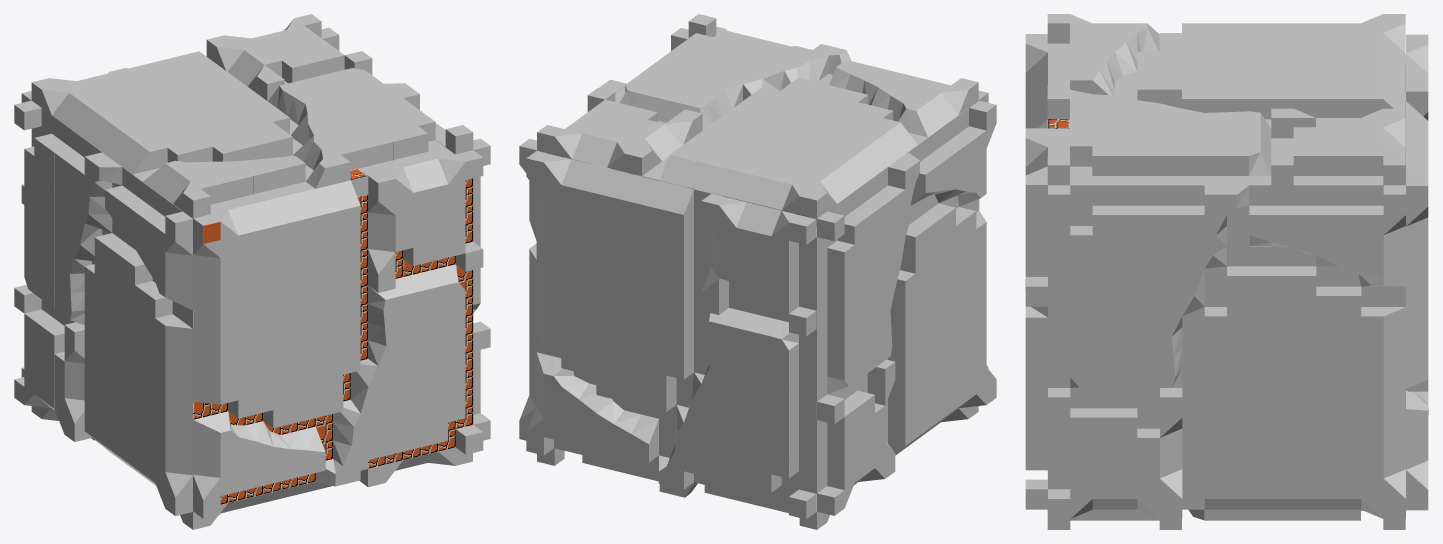
Rendered from groundBlock.obj.
3 views of the same model, side by side, from view 1: azimuth 30°, elevation 25°; view 2: azimuth 150°, elevation 25°; view 3: azimuth 270°, elevation 25° (orthographic). The views are drawn at different scales.
Visible parts, largest first — view 1: Cube.000_Cube.511, Cube.032_Cube.287, Cube.004_Cube.515, Cube.002_Cube.513, Cube.003_Cube.514; view 2: Cube.001_Cube.512, Cube.032_Cube.287, Cube.004_Cube.515, Cube.002_Cube.513, Cube.003_Cube.514; view 3: Cube.002_Cube.513, Cube.004_Cube.515, Cube.001_Cube.512, Cube.000_Cube.511, Cube.003_Cube.514.
Part boxes in pixels (bbox=[...]): Cube.000_Cube.511: bbox=[193, 150, 483, 518]; Cube.032_Cube.287: bbox=[14, 100, 193, 515]; Cube.004_Cube.515: bbox=[31, 14, 473, 218]; Cube.002_Cube.513: bbox=[321, 27, 490, 440]; Cube.003_Cube.514: bbox=[31, 406, 472, 529]; Cube.001_Cube.512: bbox=[526, 151, 816, 519]; Cube.032_Cube.287: bbox=[809, 100, 996, 515]; Cube.004_Cube.515: bbox=[537, 14, 978, 218]; Cube.002_Cube.513: bbox=[519, 28, 693, 440]; Cube.003_Cube.514: bbox=[537, 406, 978, 529]; Cube.002_Cube.513: bbox=[1048, 176, 1405, 518]; Cube.004_Cube.515: bbox=[1047, 14, 1405, 185]; Cube.001_Cube.512: bbox=[1405, 34, 1428, 510]; Cube.000_Cube.511: bbox=[1025, 34, 1069, 509]; Cube.003_Cube.514: bbox=[1047, 470, 1405, 529].
Size of the model in its own units: 2.26 by 2.25 by 2.25.
